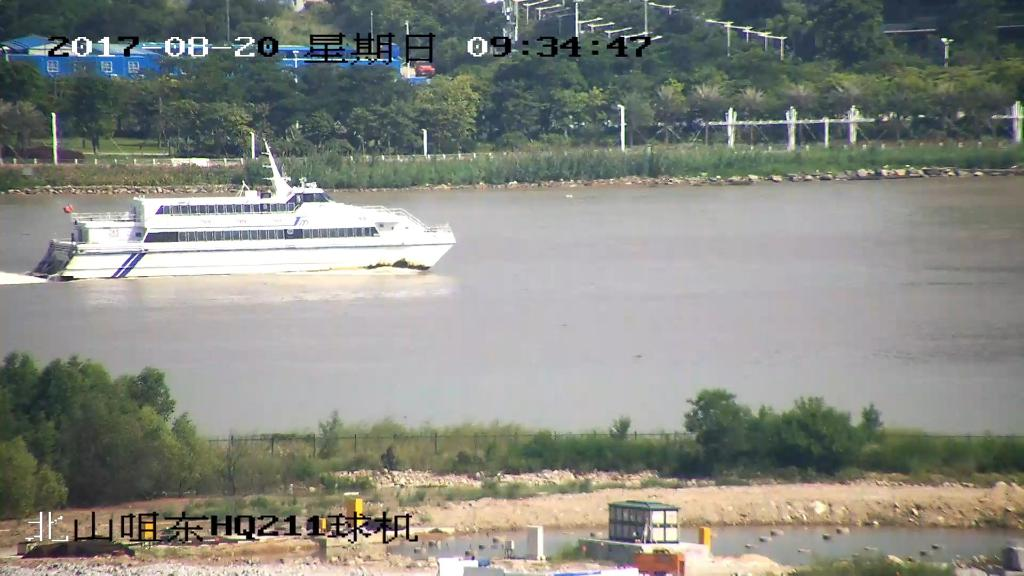PassengerShip: (21, 133, 463, 285)
